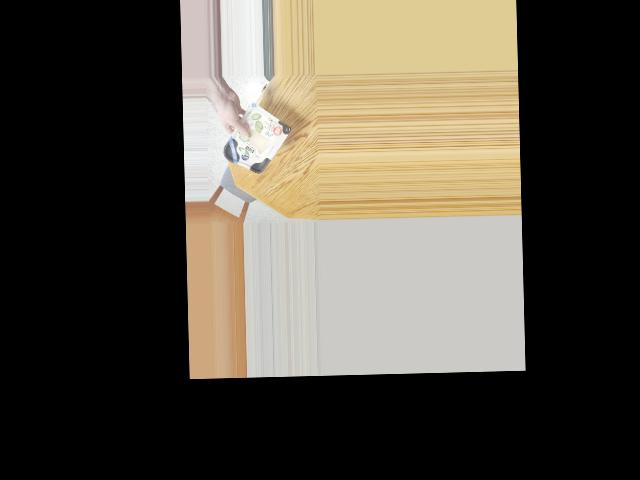cheese: (218, 113, 287, 171)
